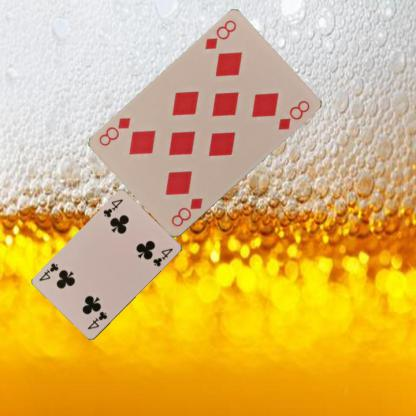4c: (101, 196, 124, 219), (85, 309, 109, 331)
8d: (168, 196, 204, 230), (202, 18, 238, 51)
